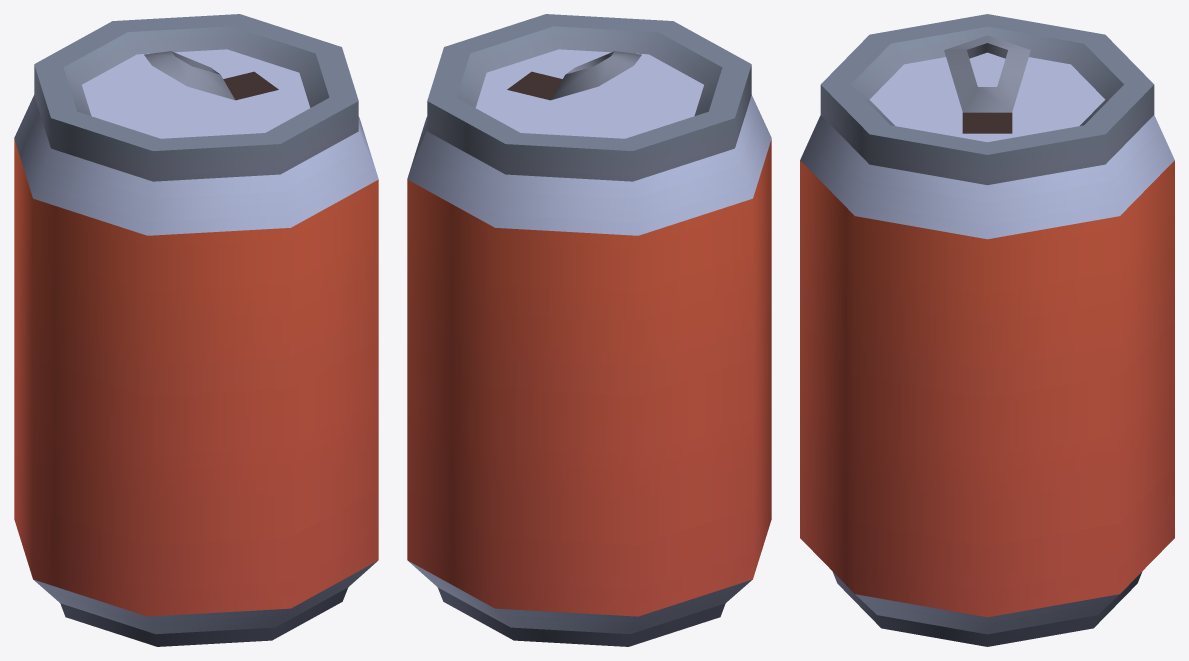
File: soda-can.glb
3 renders of one model, left to right at view 1: azimuth 30°, elevation 25°; view 2: azimuth 150°, elevation 25°; view 3: azimuth 270°, elevation 25°, orthographic.
Visible parts, largest first — view 1: soda-can; view 2: soda-can; view 3: soda-can.
Boxes of the visible parts, x1=… form: soda-can: x1=14, y1=14, x2=378, y2=646; soda-can: x1=407, y1=14, x2=771, y2=646; soda-can: x1=800, y1=14, x2=1174, y2=646.
Bounding box in the file's own units: 0.2246 × 0.3506 × 0.2246.
1 material, 1 textured.
